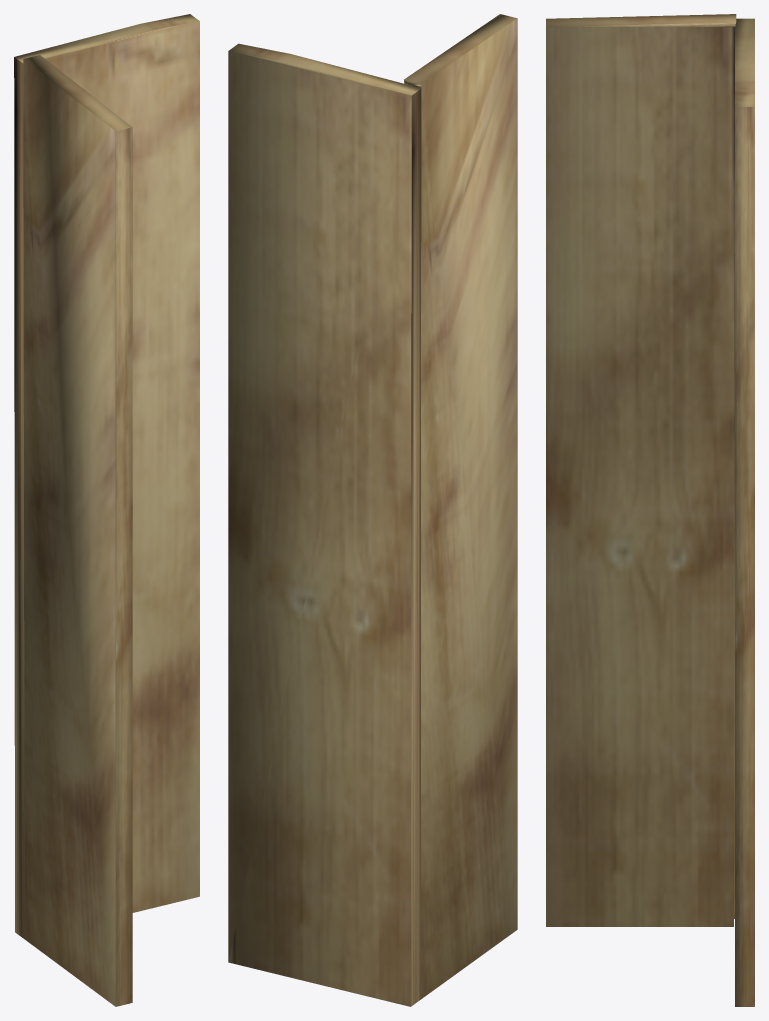
The model's file is fence_L.obj.
3 views of the same model, side by side, from view 1: azimuth 30°, elevation 25°; view 2: azimuth 150°, elevation 25°; view 3: azimuth 270°, elevation 25° (orthographic). The views are drawn at different scales.
Bounding box in the file's own units: 1.05 × 5.03 × 1.05.
